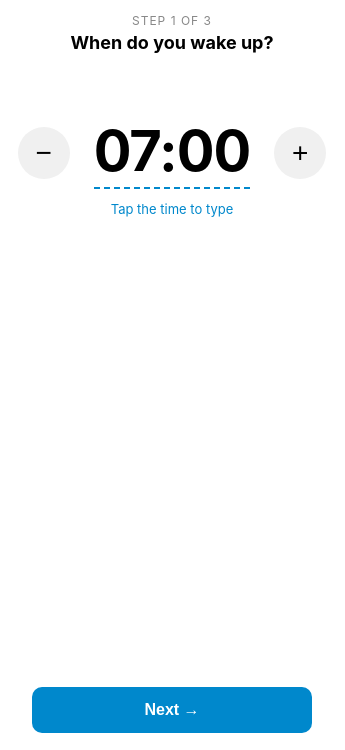
Test: ScreenWakeTime › tapping the time display switches to text input mode
Click the text with test id "time-display": (172, 153) [94, 117, 250, 189]
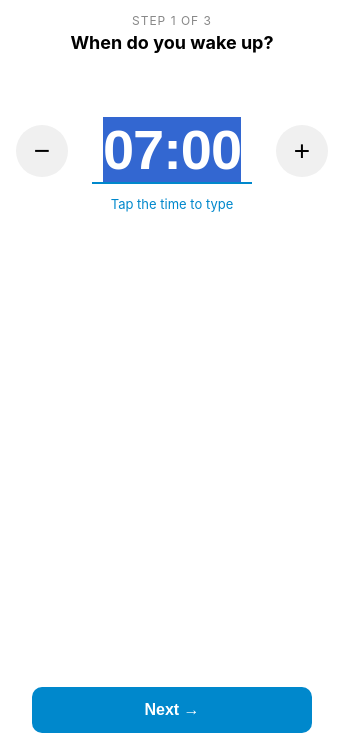
Expected: the field with test id "time-input" is shown, [92, 117, 252, 184]
